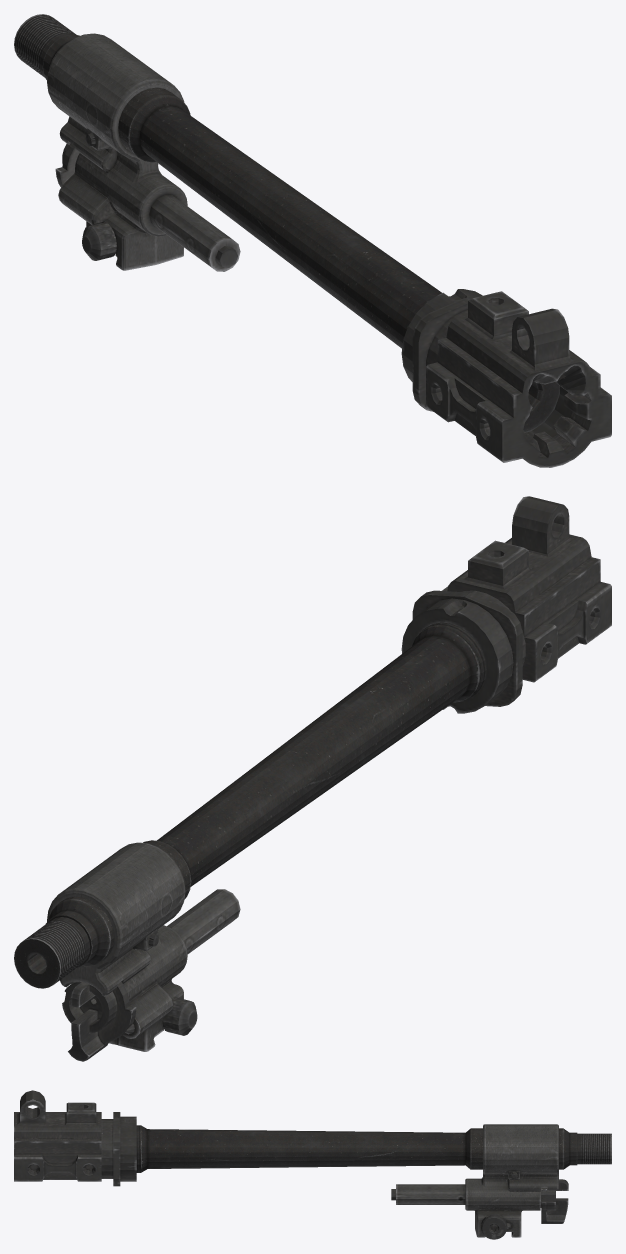
3 views of the same model, one above another, from view 1: azimuth 30°, elevation 25°; view 2: azimuth 150°, elevation 25°; view 3: azimuth 270°, elevation 25° (orthographic). The views are drawn at different scales.
Visible parts, largest first — view 1: TW_6183fc15d3a39d50044c13e9_PZ_Import; view 2: TW_6183fc15d3a39d50044c13e9_PZ_Import; view 3: TW_6183fc15d3a39d50044c13e9_PZ_Import.
Part boxes in pixels (x1,y1,x2,y2): TW_6183fc15d3a39d50044c13e9_PZ_Import: (14, 14, 611, 467); TW_6183fc15d3a39d50044c13e9_PZ_Import: (14, 496, 611, 1061); TW_6183fc15d3a39d50044c13e9_PZ_Import: (14, 1090, 611, 1239).
Size of the model in its own units: 0.0187 by 0.1532 by 0.0378.
1 material, 1 textured.
